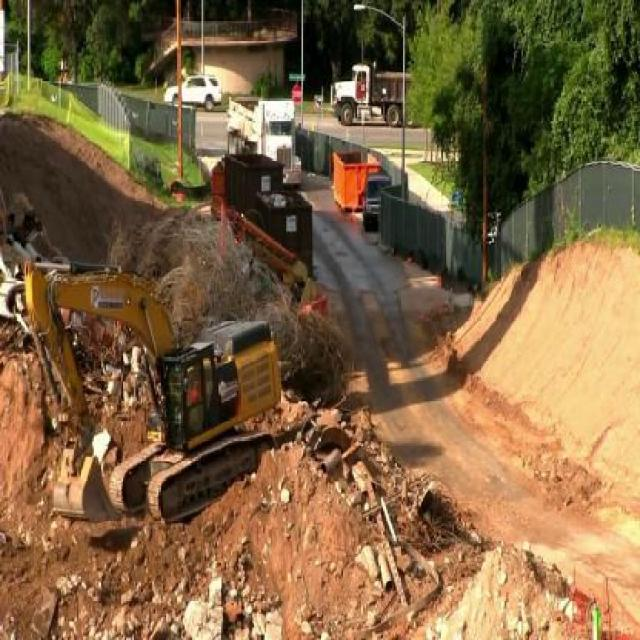dump_truck: (230, 94, 296, 180)
excavator: (22, 260, 280, 528)
